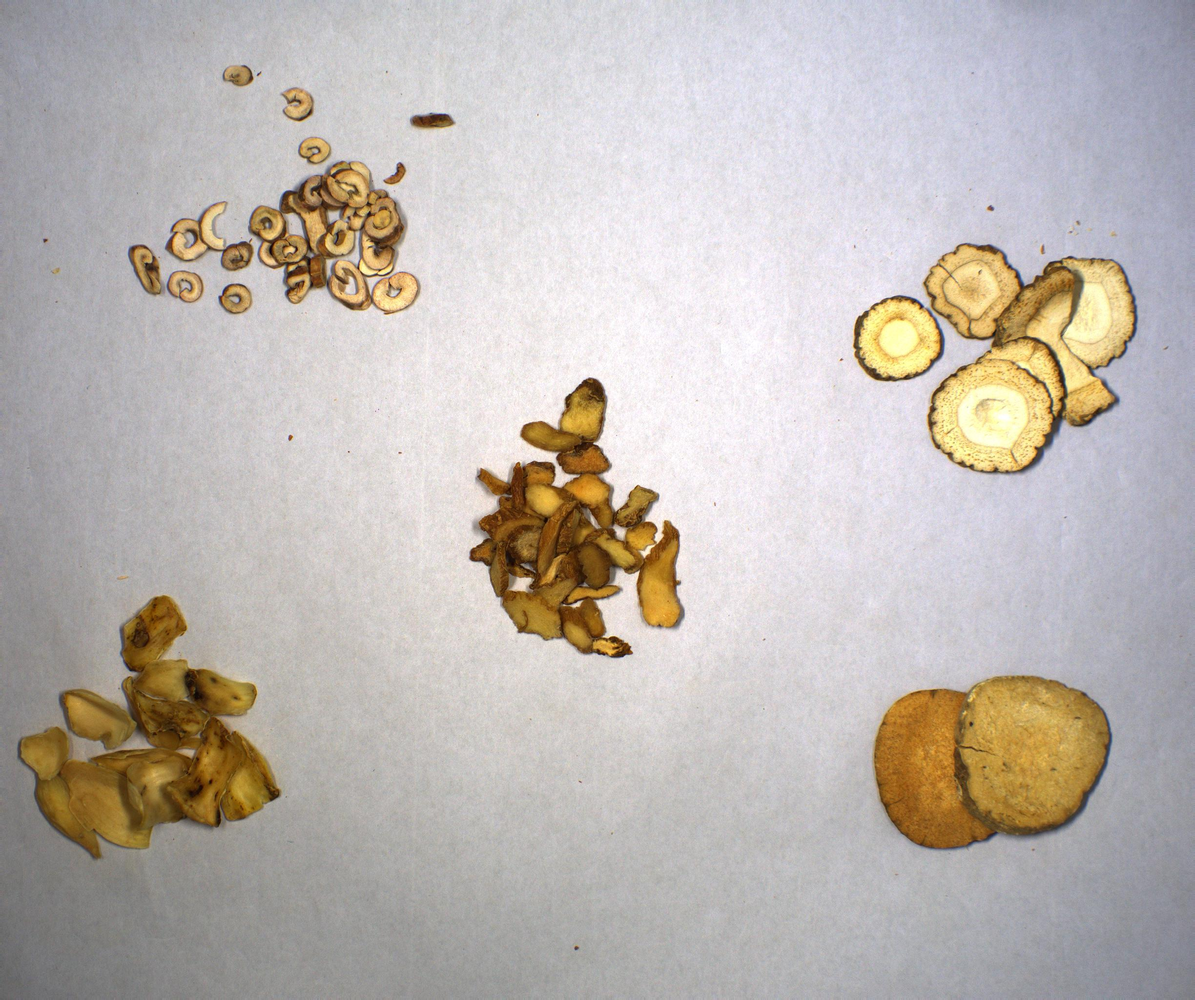baihe: (18, 596, 281, 862)
baizhi: (854, 244, 1139, 474)
mudanpi: (127, 62, 458, 317)
yuzhu: (467, 376, 686, 660)
zexie: (875, 674, 1113, 848)
